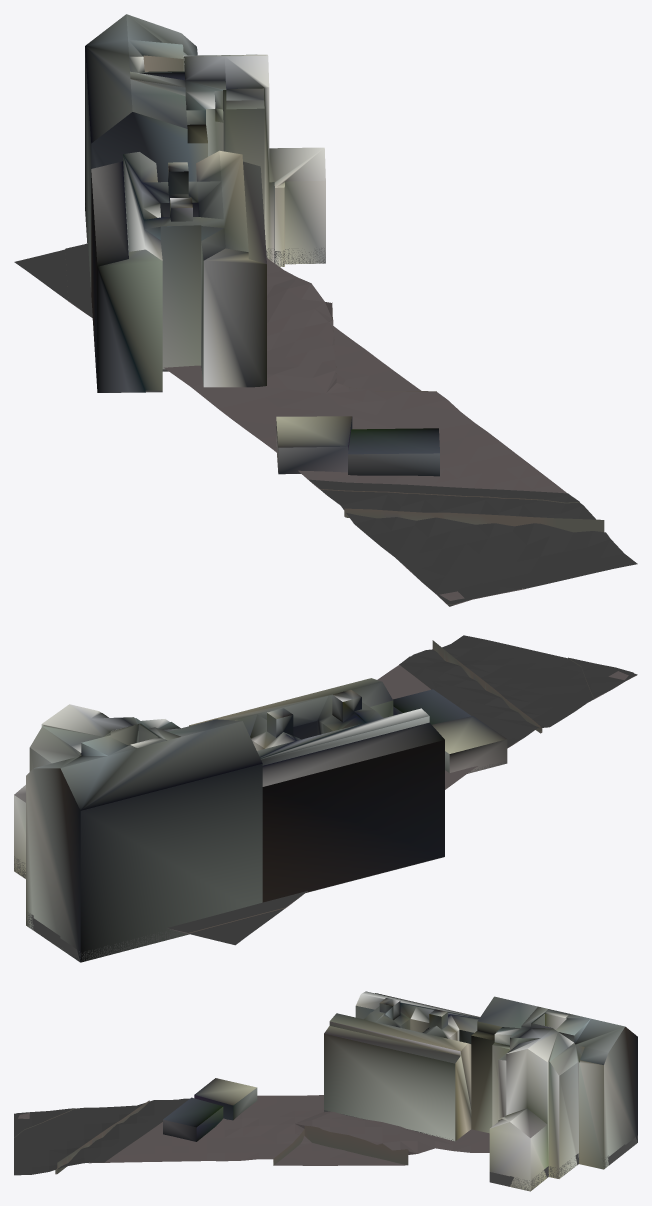
The picture shows the model from 3 angles, top to bottom: view 1: azimuth 30°, elevation 25°; view 2: azimuth 150°, elevation 25°; view 3: azimuth 270°, elevation 25°; orthographic projection. The views are drawn at different scales.
Parts seen in each view (by area): view 1: c_p06_m16; view 2: c_p06_m16; view 3: c_p06_m16.
Part boxes in pixels (<box>): c_p06_m16: <box>14,14,637,606</box>; c_p06_m16: <box>14,635,637,962</box>; c_p06_m16: <box>14,991,637,1191</box>.
Size of the model in its own units: 58.77 by 34.43 by 142.
